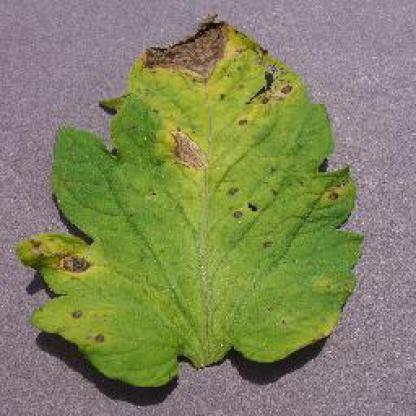bad leaf: (12, 16, 351, 395), (29, 154, 223, 348), (90, 0, 280, 194), (28, 155, 378, 258), (184, 70, 372, 238)
